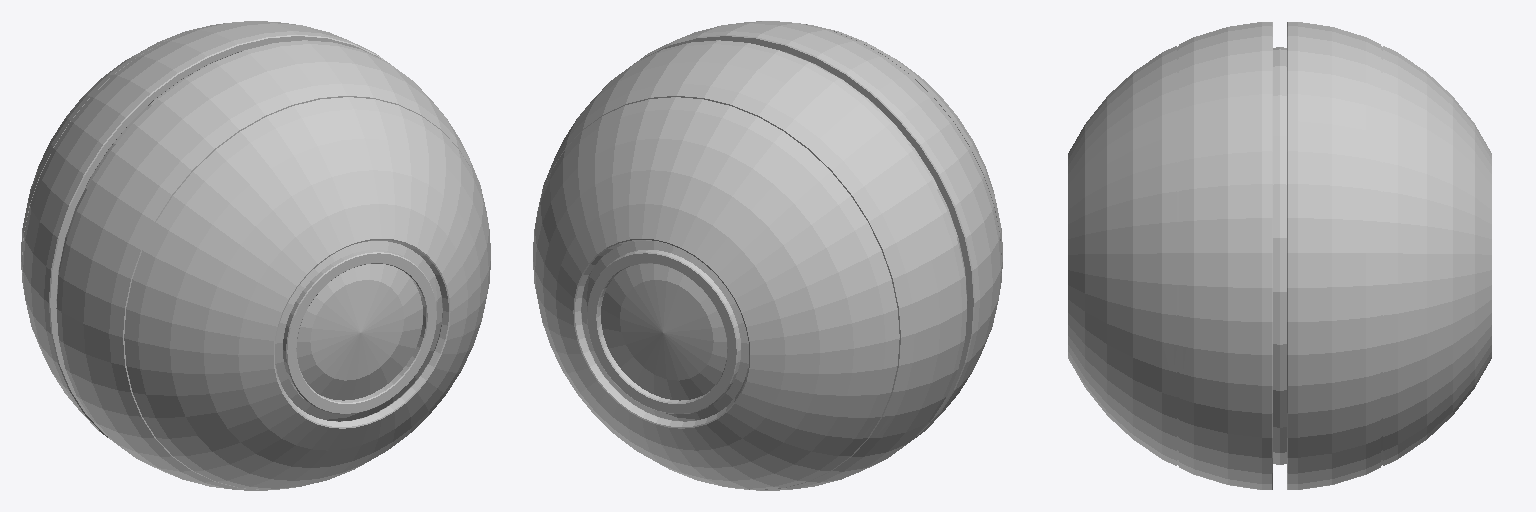
File: ball.obj
3 renders of one model, left to right at view 1: azimuth 30°, elevation 25°; view 2: azimuth 150°, elevation 25°; view 3: azimuth 270°, elevation 25°, orthographic.
Parts seen in each view (by area): view 1: ring_ID14, core_ID32; view 2: ring_ID14, core_ID32; view 3: ring_ID14, core_ID32.
Boxes of the visible parts, <box> form: ring_ID14: <box>21,21,490,490</box>; core_ID32: <box>57,53,442,421</box>; ring_ID14: <box>533,21,1002,490</box>; core_ID32: <box>581,53,966,421</box>; ring_ID14: <box>1068,22,1491,489</box>; core_ID32: <box>1273,47,1286,464</box>.
Bounding box in the file's own units: 4.17 × 4.15 × 3.76.